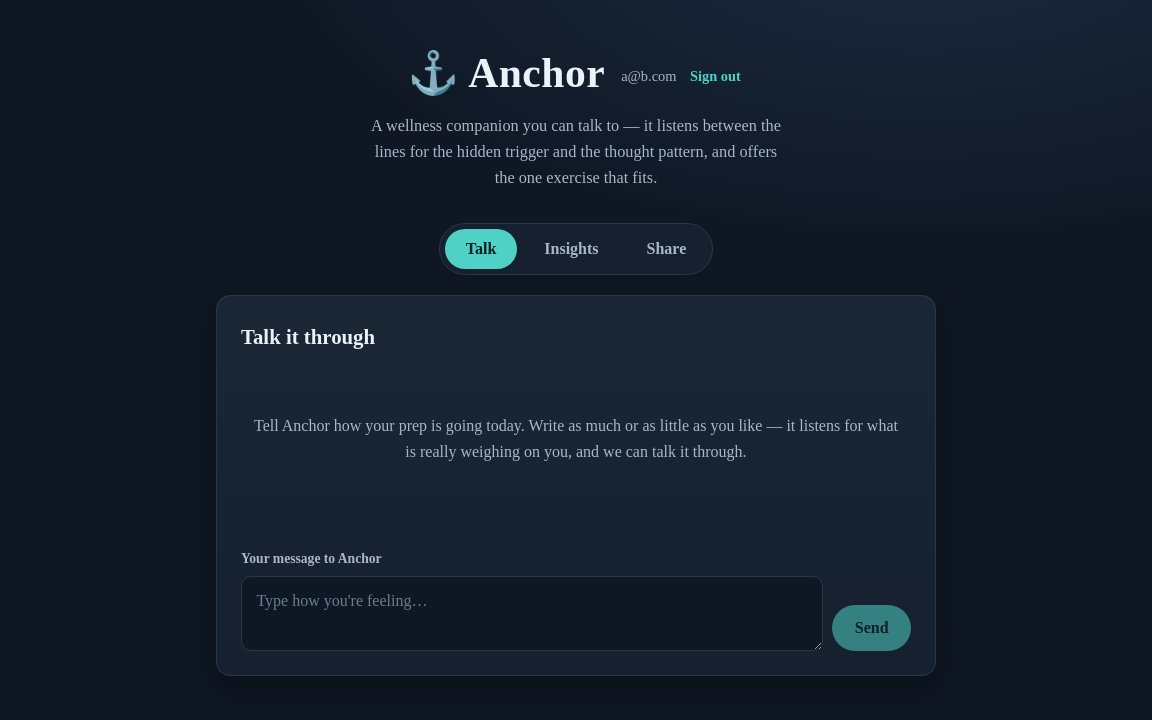
Test: App › signs out back to the auth form
Expected: the heading "Talk it through" is shown, x1=241 y1=325 x2=375 y2=348
Click the button "Sign out": (715, 76) x1=686 y1=62 x2=745 y2=90
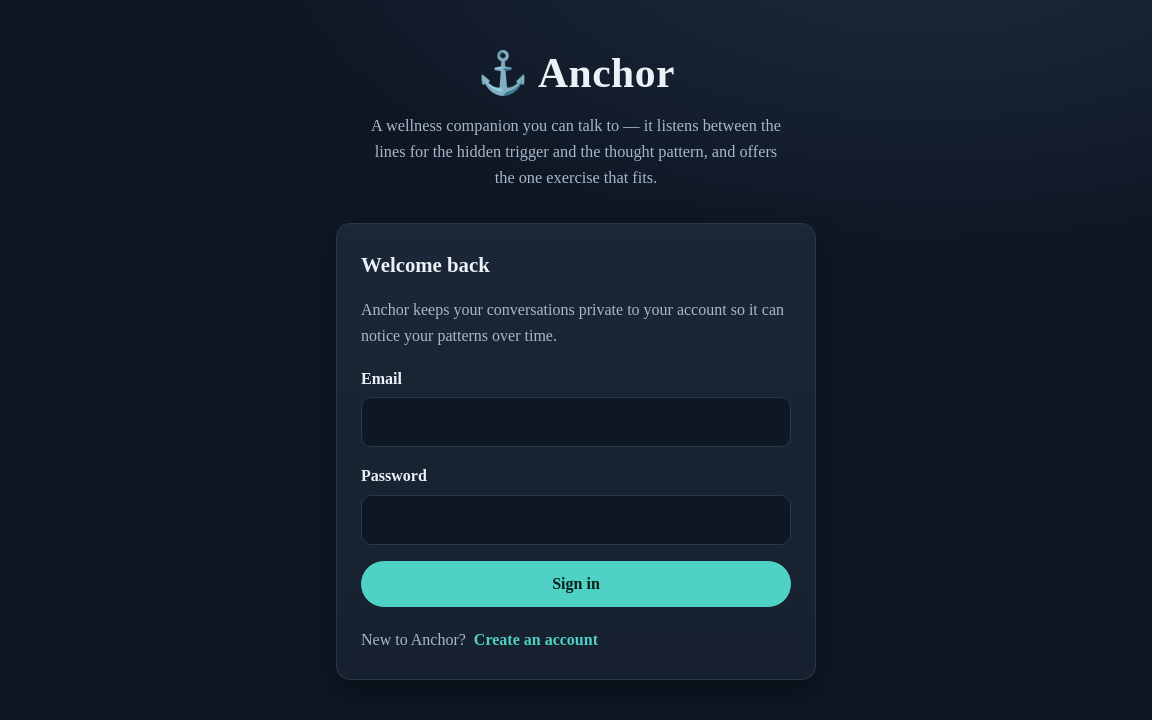
Expected: the field labelled "Email" is shown, x1=361 y1=398 x2=791 y2=448
